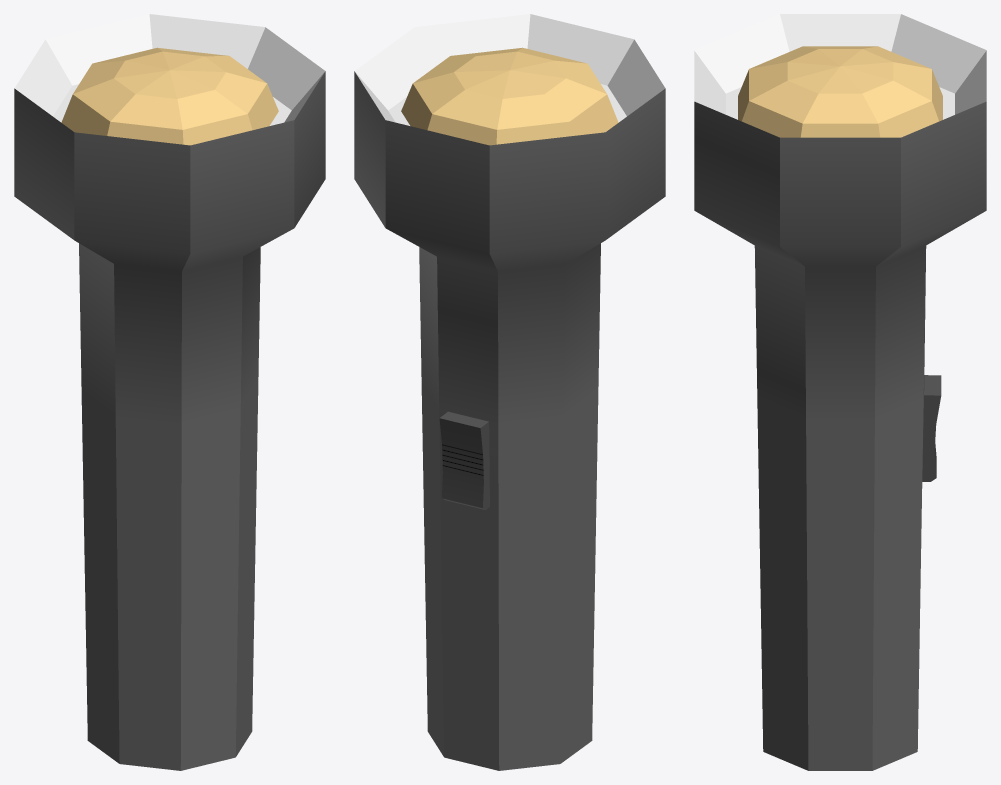
The model's file is Flashlight.fbx.
The picture shows the model from 3 angles, left to right: view 1: azimuth 30°, elevation 25°; view 2: azimuth 150°, elevation 25°; view 3: azimuth 270°, elevation 25°; orthographic projection.
Parts seen in each view (by area): view 1: pSphere3; view 2: pSphere3; view 3: pSphere3.
Boxes of the visible parts, x1,y1,x2,y2 form: pSphere3: (14,14,325,770); pSphere3: (354,14,665,770); pSphere3: (694,14,986,770).
Bounding box in the file's own units: 4.73 × 11.99 × 4.73.
1 material, 1 textured.
